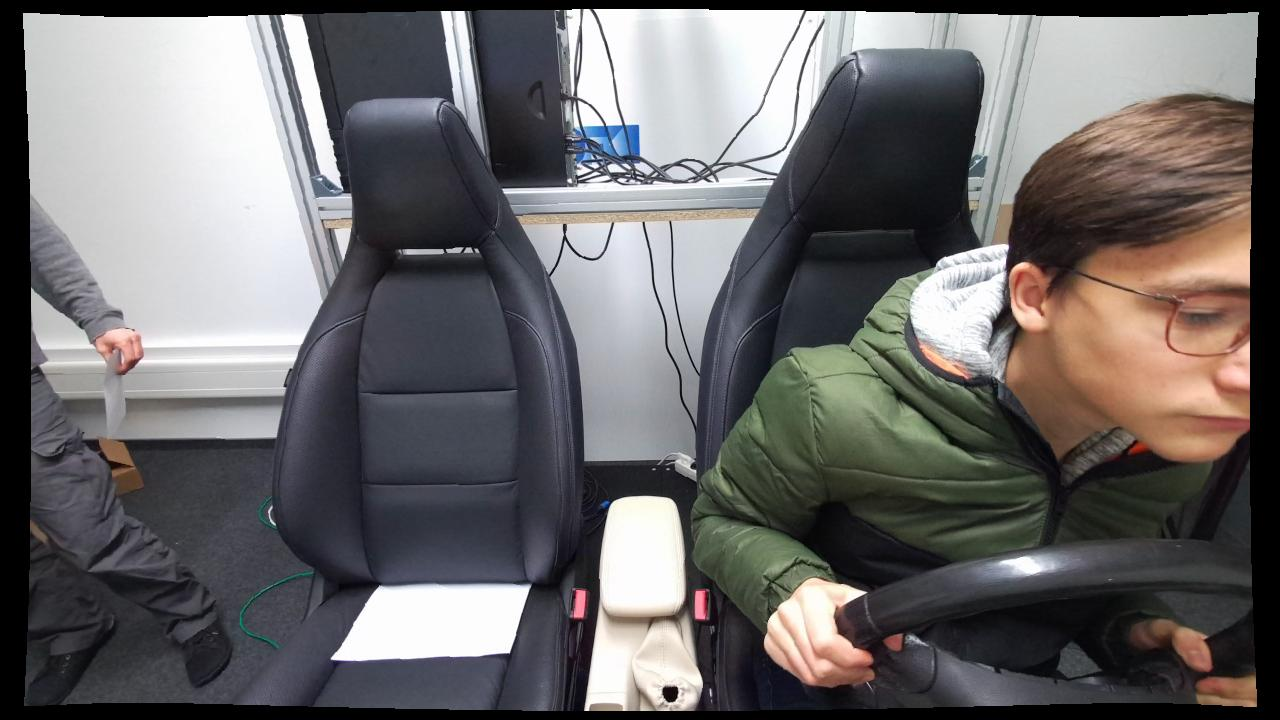Distracted: (691, 97, 1252, 711)
